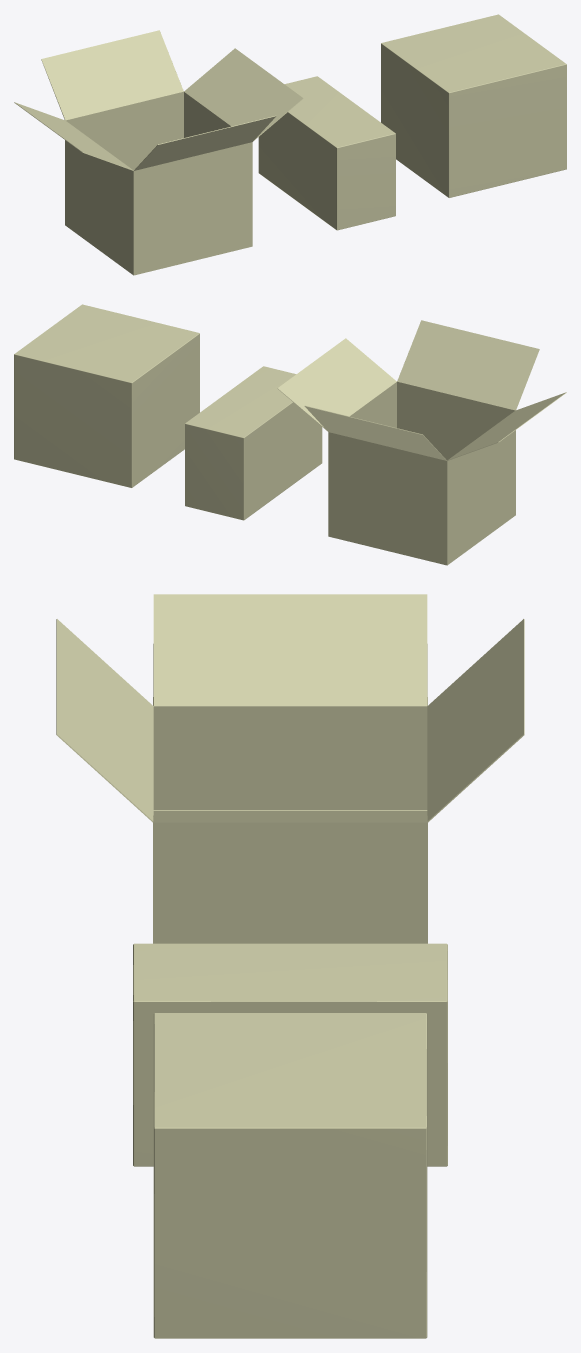
The model's file is Boxes_group_Y.fbx.
3 renders of one model, top to bottom at view 1: azimuth 30°, elevation 25°; view 2: azimuth 150°, elevation 25°; view 3: azimuth 270°, elevation 25°, orthographic. The views are drawn at different scales.
Visible parts, largest first — view 1: BoxOpen_, Box_big_, Box_medium_; view 2: BoxOpen_, Box_big_, Box_medium_; view 3: BoxOpen_, Box_big_, Box_medium_.
Part boxes in pixels (x1,y1,x2,y2): BoxOpen_: (14, 30, 303, 275); Box_big_: (381, 14, 566, 197); Box_medium_: (258, 76, 395, 230); BoxOpen_: (277, 320, 566, 565); Box_big_: (14, 304, 199, 487); Box_medium_: (185, 366, 322, 520); BoxOpen_: (56, 594, 524, 943); Box_big_: (153, 1013, 427, 1338); Box_medium_: (133, 943, 447, 1166).
Size of the model in its own units: 197 by 57.59 by 82.22.
